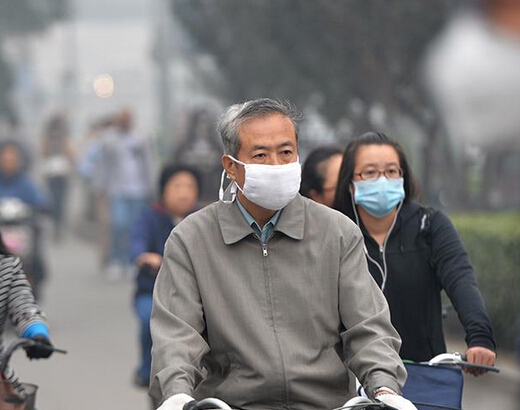rightmask: (341, 130, 408, 224)
wrongmask: (220, 97, 309, 221)
